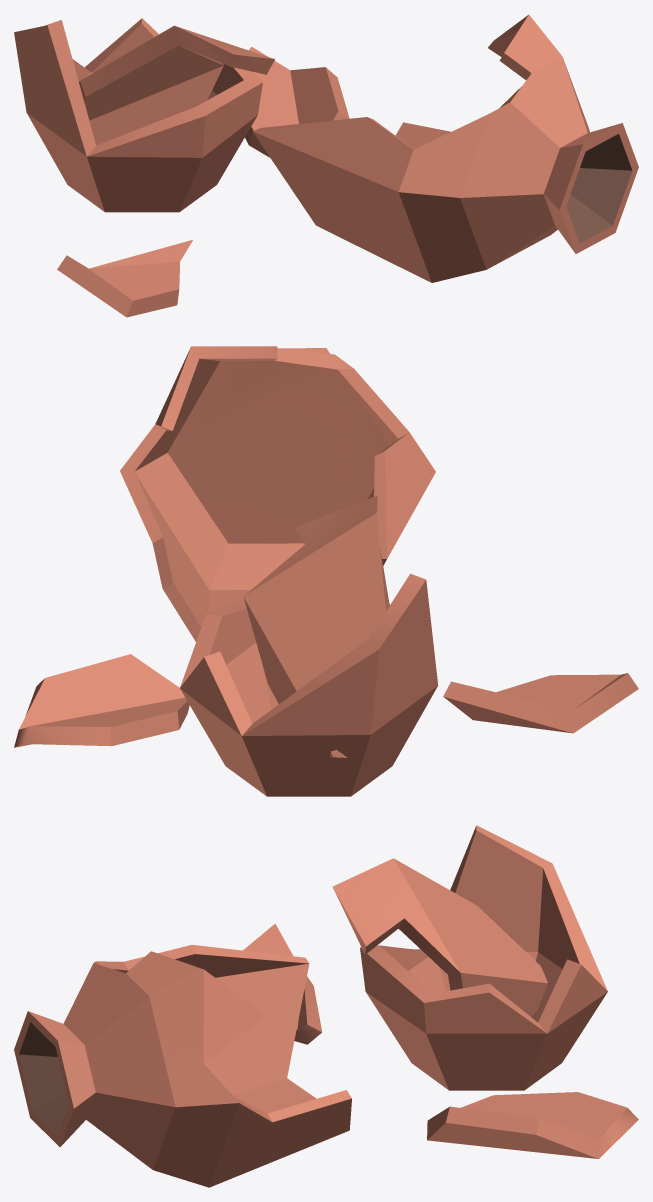
File: prop_060.fbx
3 views of the same model, one above another, from view 1: azimuth 30°, elevation 25°; view 2: azimuth 150°, elevation 25°; view 3: azimuth 270°, elevation 25° (orthographic). The views are drawn at different scales.
Parts seen in each view (by area): view 1: prop.060; view 2: prop.060; view 3: prop.060.
Boxes of the visible parts, <box> form: prop.060: <box>14,14,638,317</box>; prop.060: <box>14,346,638,796</box>; prop.060: <box>14,825,638,1187</box>.
Bounding box in the file's own units: 167 × 73.84 × 186.
Materials: 1 (1 with a texture image).
